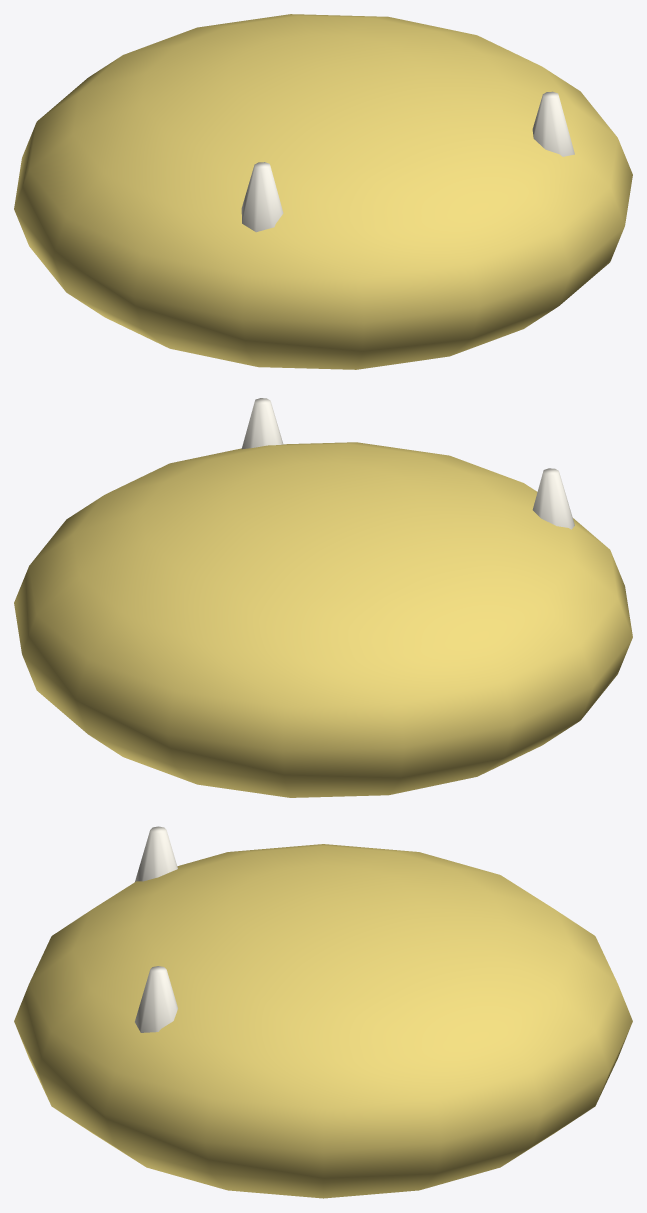
File: Detail_Bowser_LowerJaw.fbx
The picture shows the model from 3 angles, top to bottom: view 1: azimuth 30°, elevation 25°; view 2: azimuth 150°, elevation 25°; view 3: azimuth 270°, elevation 25°; orthographic projection.
Visible parts, largest first — view 1: Detail_Bowser_LowerJaw; view 2: Detail_Bowser_LowerJaw; view 3: Detail_Bowser_LowerJaw.
Part boxes in pixels (x1,y1,x2,y2): Detail_Bowser_LowerJaw: [14, 14, 632, 369]; Detail_Bowser_LowerJaw: [14, 398, 632, 797]; Detail_Bowser_LowerJaw: [14, 826, 632, 1198].
Size of the model in its own units: 0.6 by 0.26 by 0.6.
